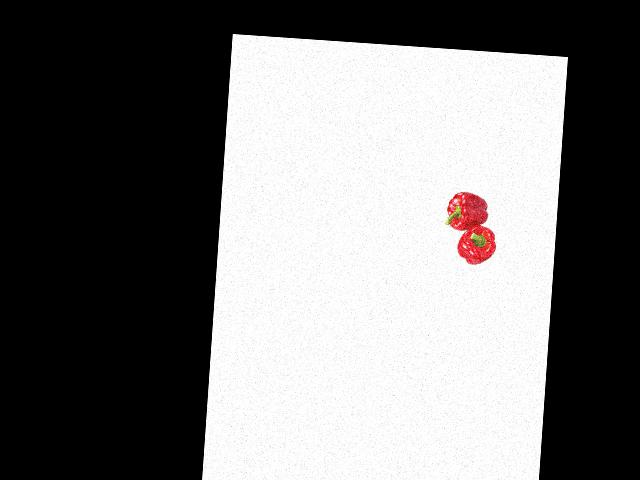bell_pepper: (443, 189, 492, 233)
